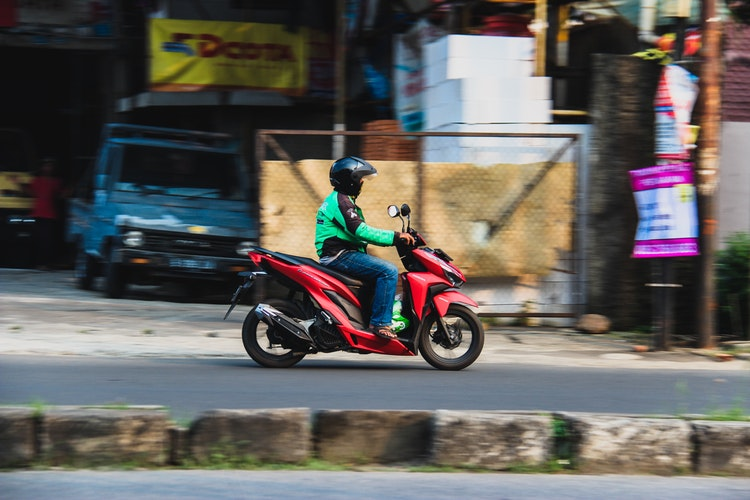helmet: (326, 155, 376, 197)
